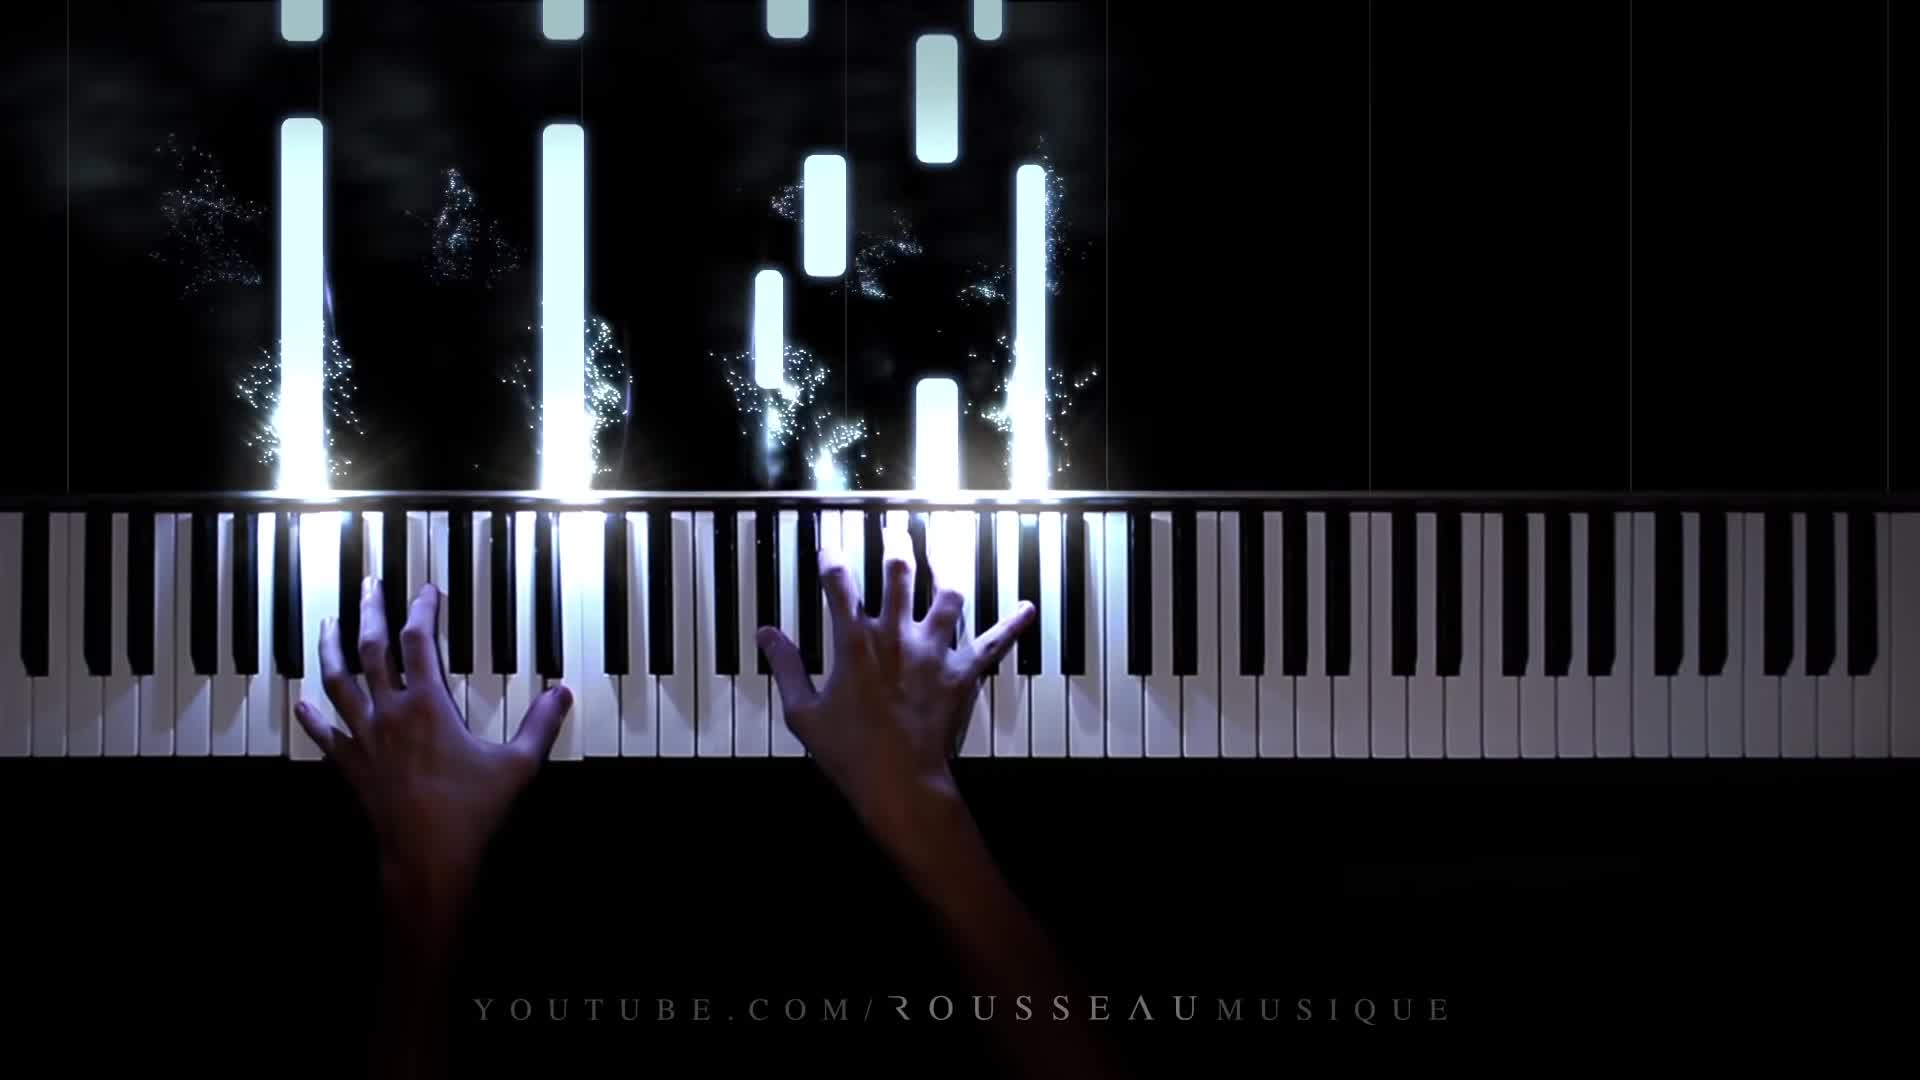left: (297, 568, 578, 825)
right: (760, 520, 1036, 808)
